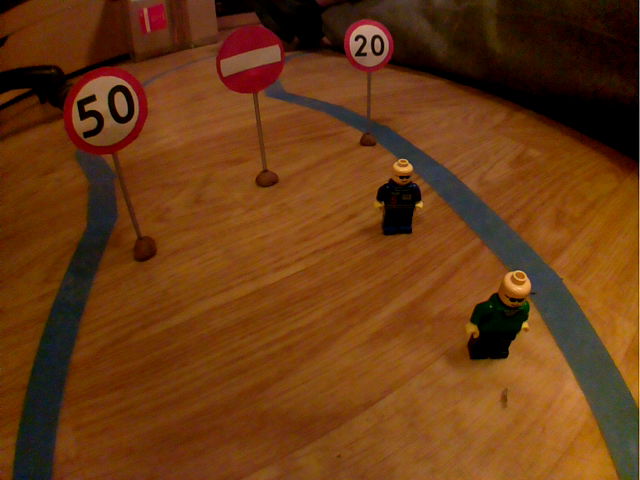Ograniczenie 20: (339, 14, 399, 76)
Ograniczenie 50: (59, 62, 152, 160)
Postac LEGO: (454, 266, 537, 365), (371, 154, 427, 240)
Zakaz: (212, 19, 289, 101)
